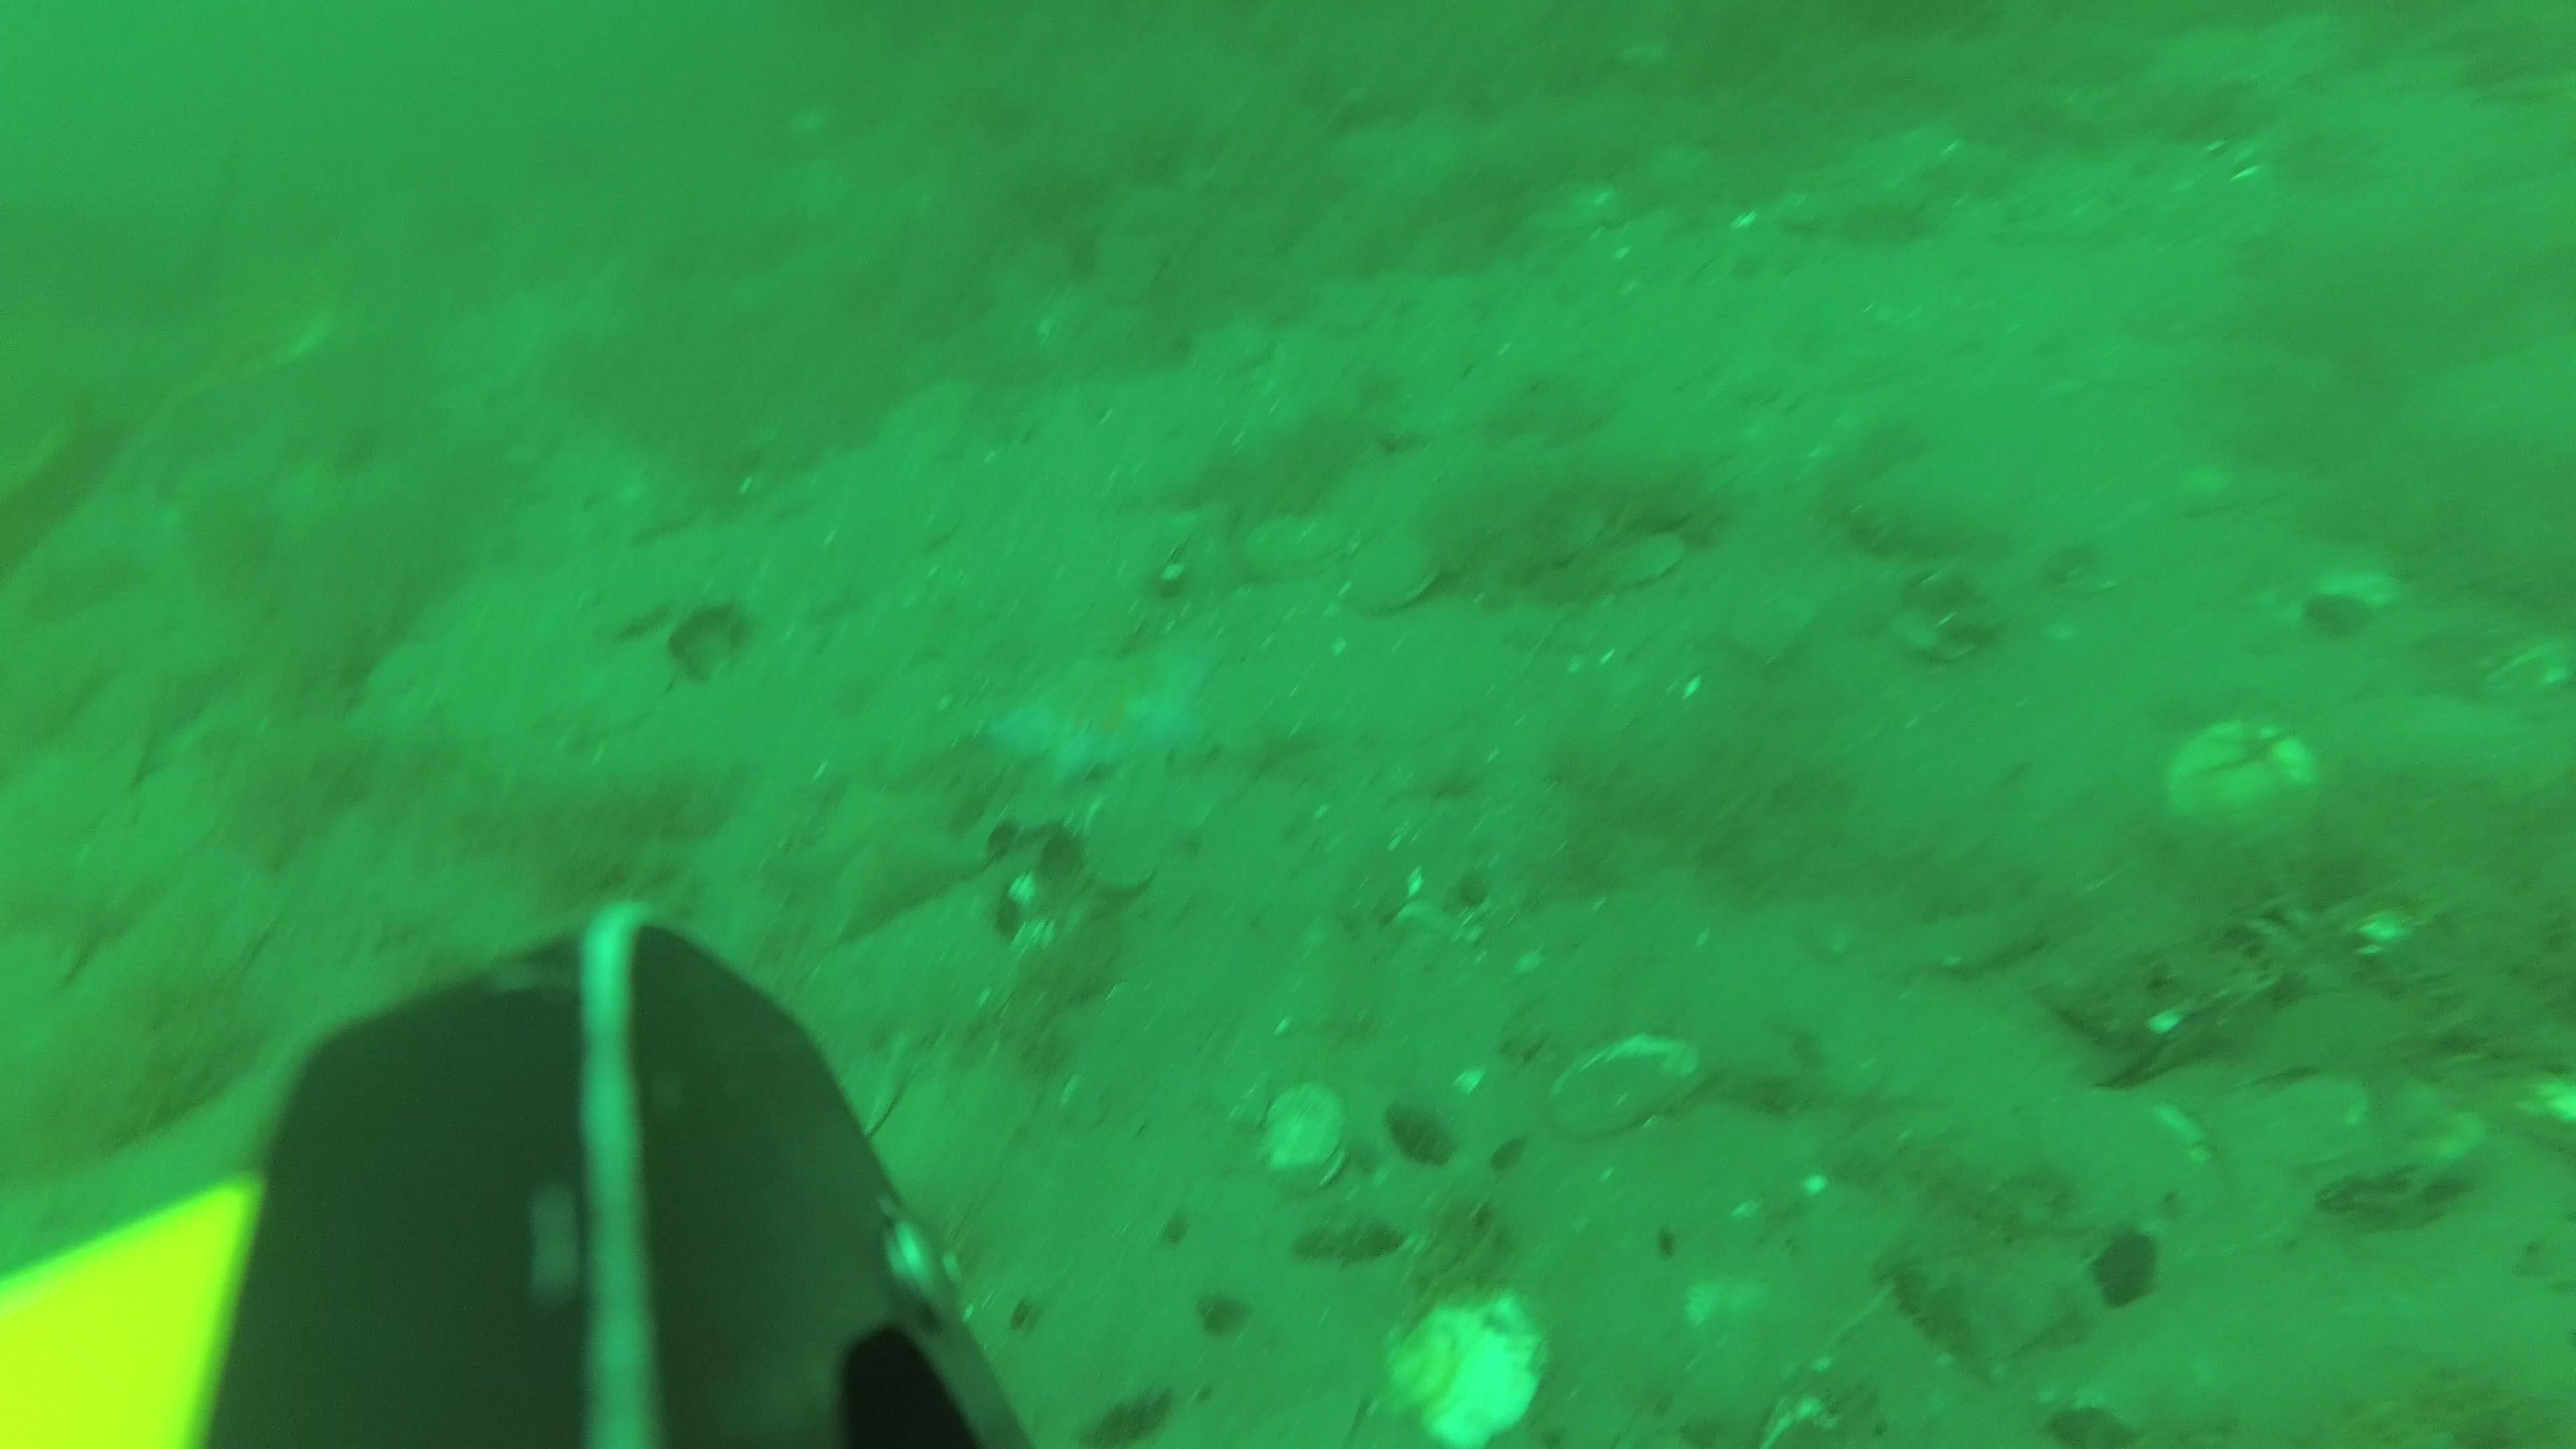scallop: (1385, 1274, 1552, 1444), (2167, 715, 2312, 840), (1545, 1030, 1698, 1136), (1258, 1085, 1346, 1194), (1357, 522, 1449, 616), (1249, 508, 1338, 582)
starfish: (782, 777, 1000, 938), (993, 651, 1196, 775)
